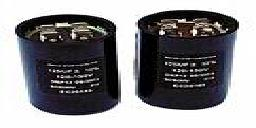Electrolytic-capacitor: (134, 5, 239, 111), (15, 15, 125, 114)
